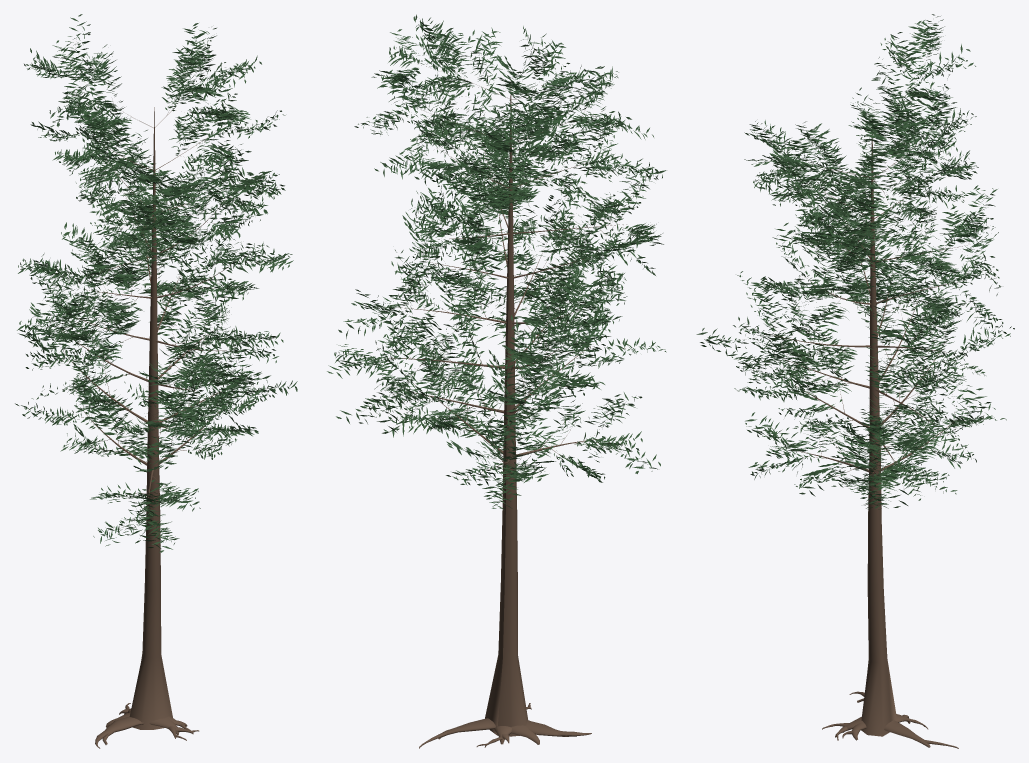
Rendered from tall-pine-2-1-1.glb.
3 views of the same model, side by side, from view 1: azimuth 30°, elevation 25°; view 2: azimuth 150°, elevation 25°; view 3: azimuth 270°, elevation 25° (orthographic). The views are drawn at different scales.
Visible parts, largest first — view 1: tall-pine:2:1:1-lod0-leaves, tall-pine:2:1:1-lod0-branches; view 2: tall-pine:2:1:1-lod0-leaves, tall-pine:2:1:1-lod0-branches; view 3: tall-pine:2:1:1-lod0-leaves, tall-pine:2:1:1-lod0-branches.
Part boxes in pixels (x1,y1,x2,y2): tall-pine:2:1:1-lod0-leaves: (15, 14, 297, 552); tall-pine:2:1:1-lod0-branches: (57, 67, 258, 748); tall-pine:2:1:1-lod0-leaves: (327, 14, 666, 509); tall-pine:2:1:1-lod0-branches: (380, 51, 631, 748); tall-pine:2:1:1-lod0-leaves: (696, 14, 1014, 509); tall-pine:2:1:1-lod0-branches: (739, 60, 982, 748).
Size of the model in its own units: 11.91 by 27.65 by 11.5.
